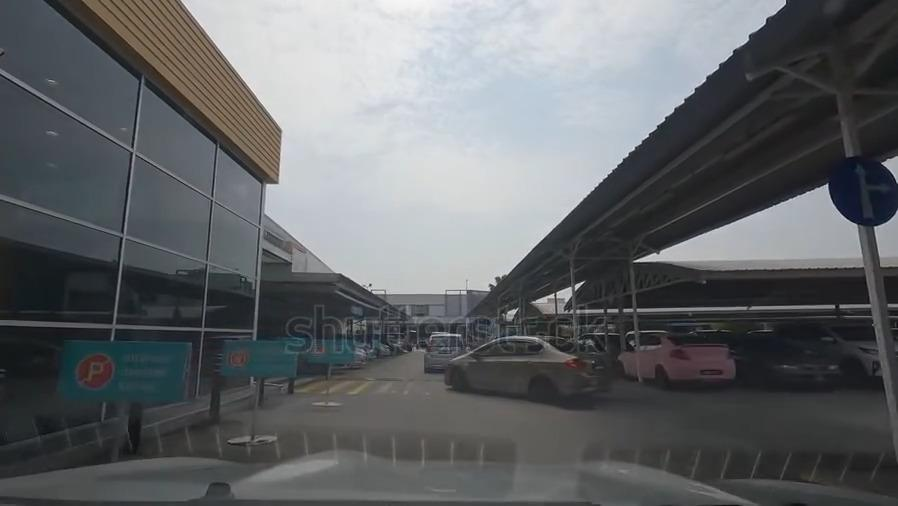car: (443, 342, 608, 399), (735, 334, 841, 394), (804, 320, 898, 387), (613, 335, 732, 386), (426, 331, 463, 371)
pedestrian: (293, 380, 488, 402)
speedbump: (332, 373, 445, 385)
wheel: (526, 371, 558, 404), (451, 364, 466, 390)
